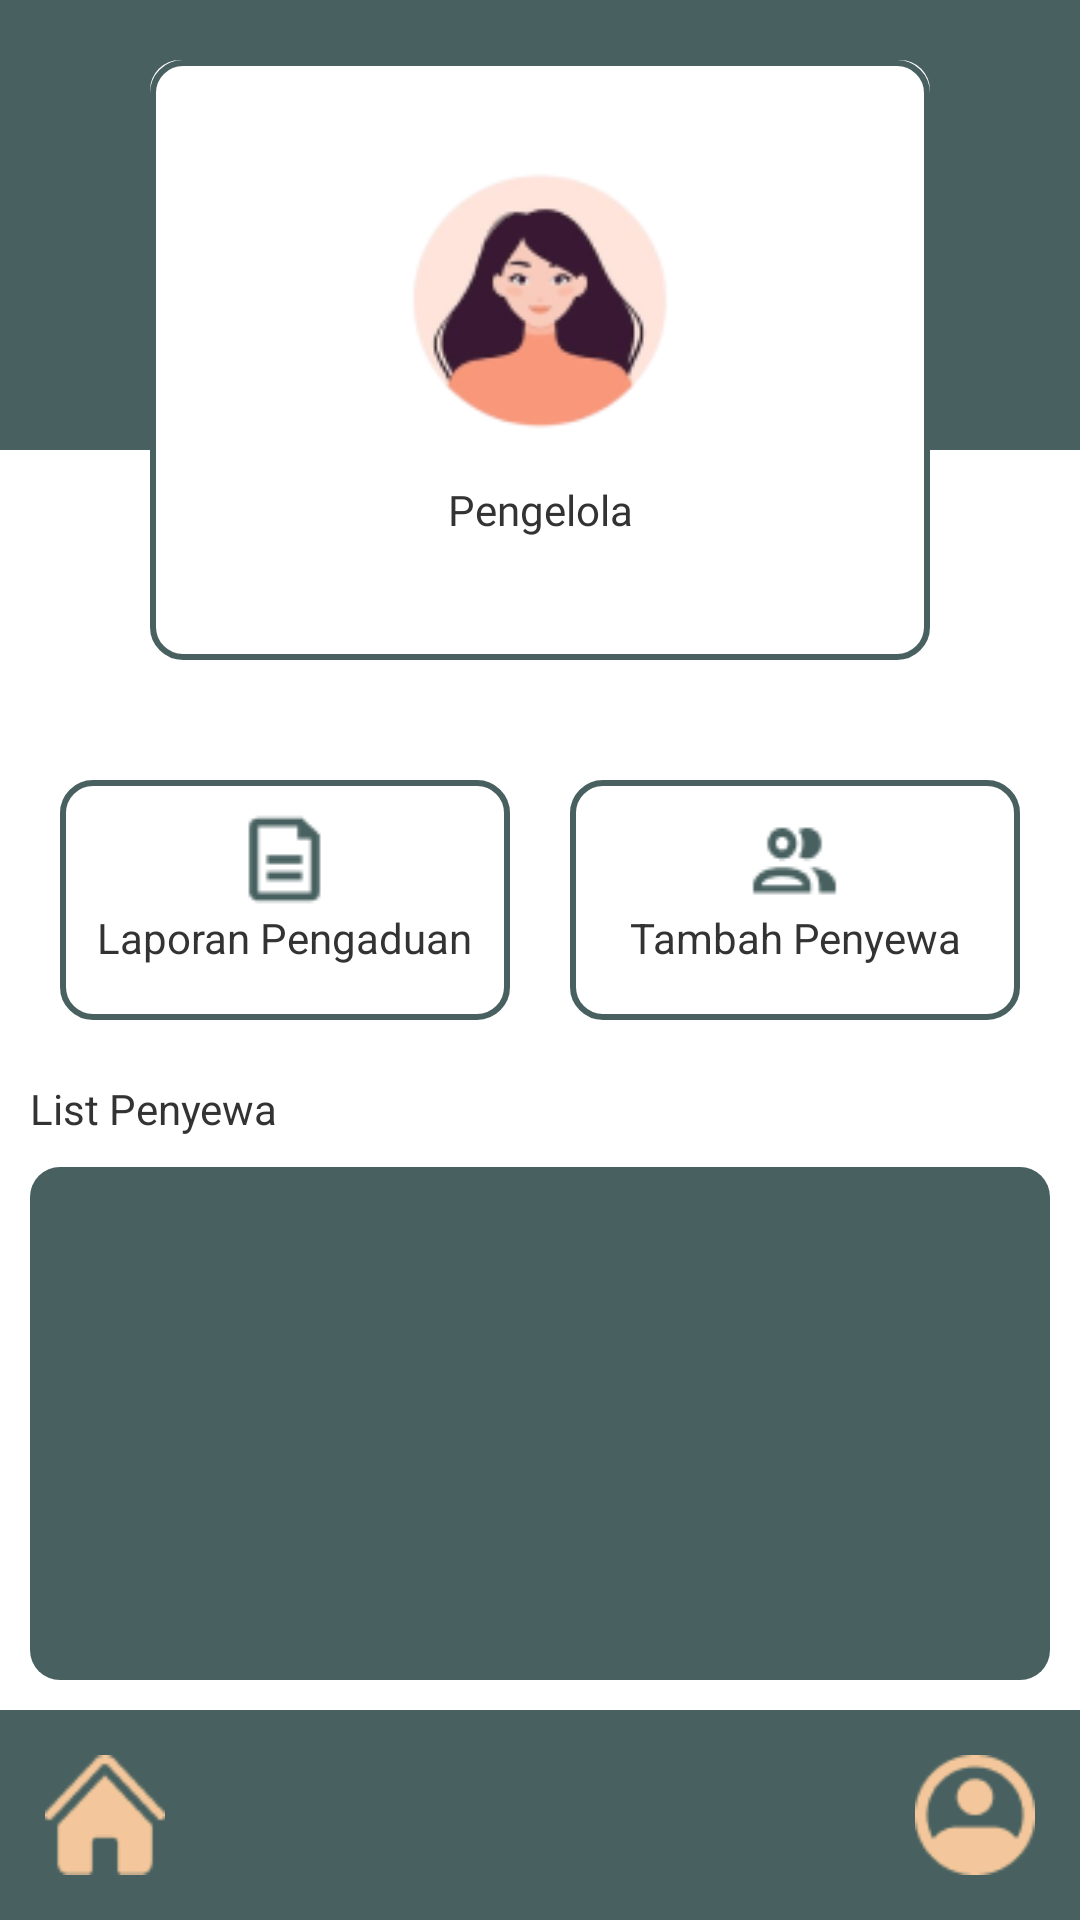

Named icons in this screenshot (1080x1920) and their centers, [x,y]:
doc: [284,859]
home: [105,1815]
profile: [975,1815]
user: [539,302]
